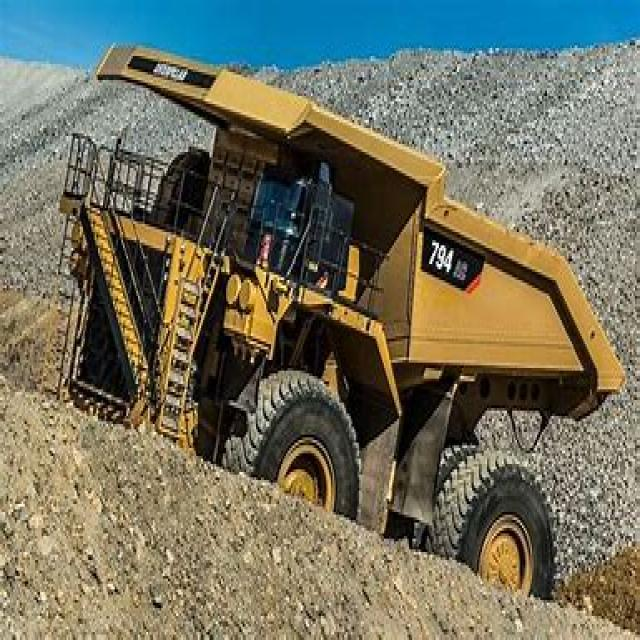dump_truck: (56, 21, 632, 619)
